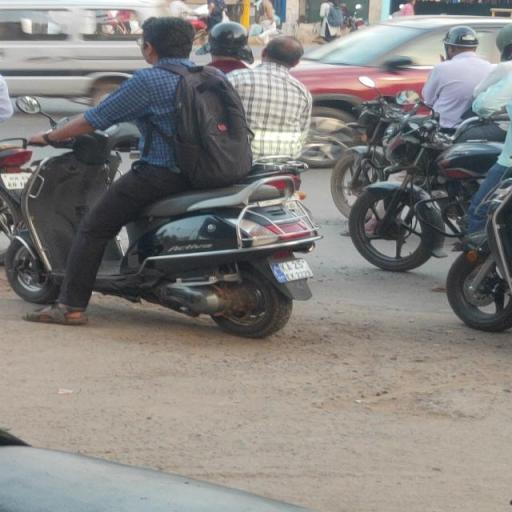bike: (4, 12, 322, 340)
numberplate: (269, 253, 316, 285)
withouthelmet: (140, 17, 190, 57)
